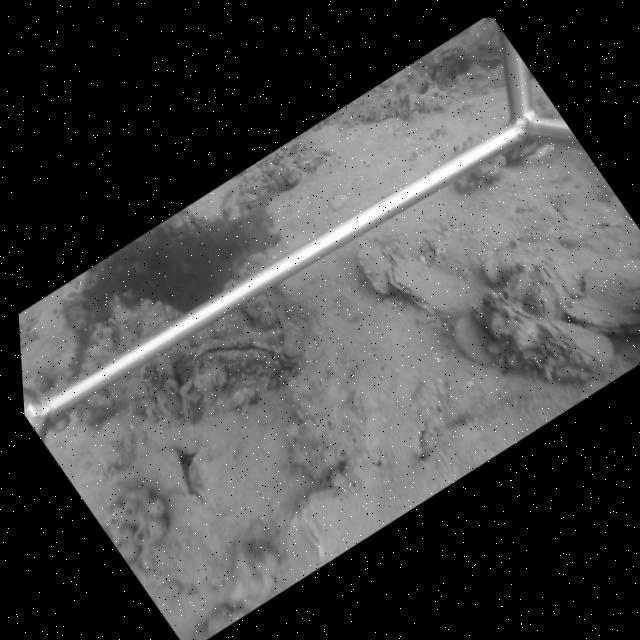Oyster-Closed: (382, 237, 499, 317), (563, 292, 640, 330), (256, 287, 291, 331), (493, 294, 541, 323), (528, 282, 555, 314), (155, 391, 180, 422), (181, 393, 201, 425)
Oyster-Indeterminate: (357, 238, 389, 293)
Oyster-Open: (192, 337, 291, 372)
